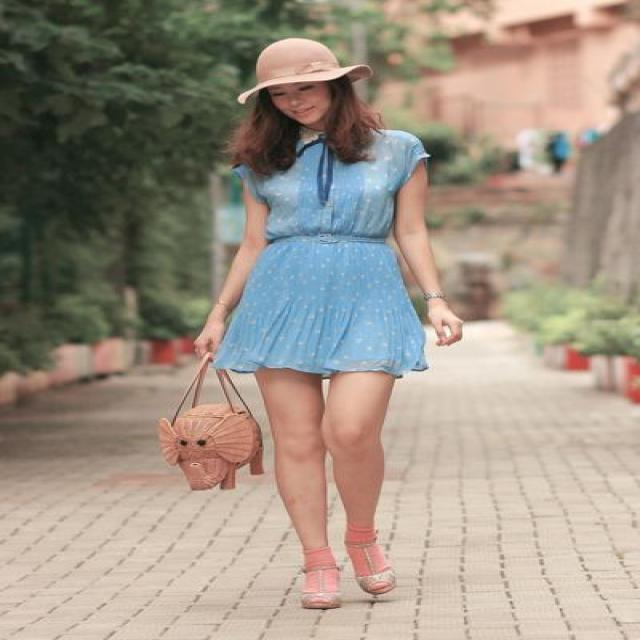bag: (148, 374, 262, 490)
dress: (214, 129, 429, 376)
hat: (253, 38, 363, 88)
shoe: (298, 516, 395, 612)
